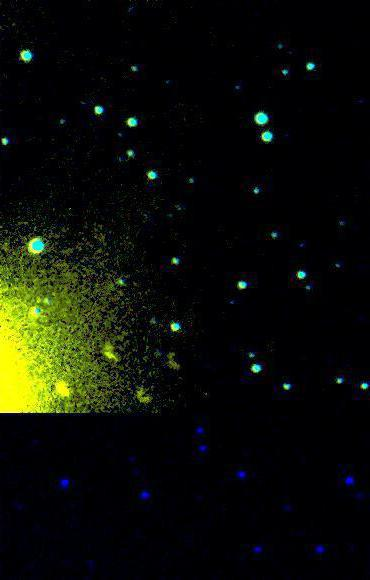star: (48, 377, 78, 407)
